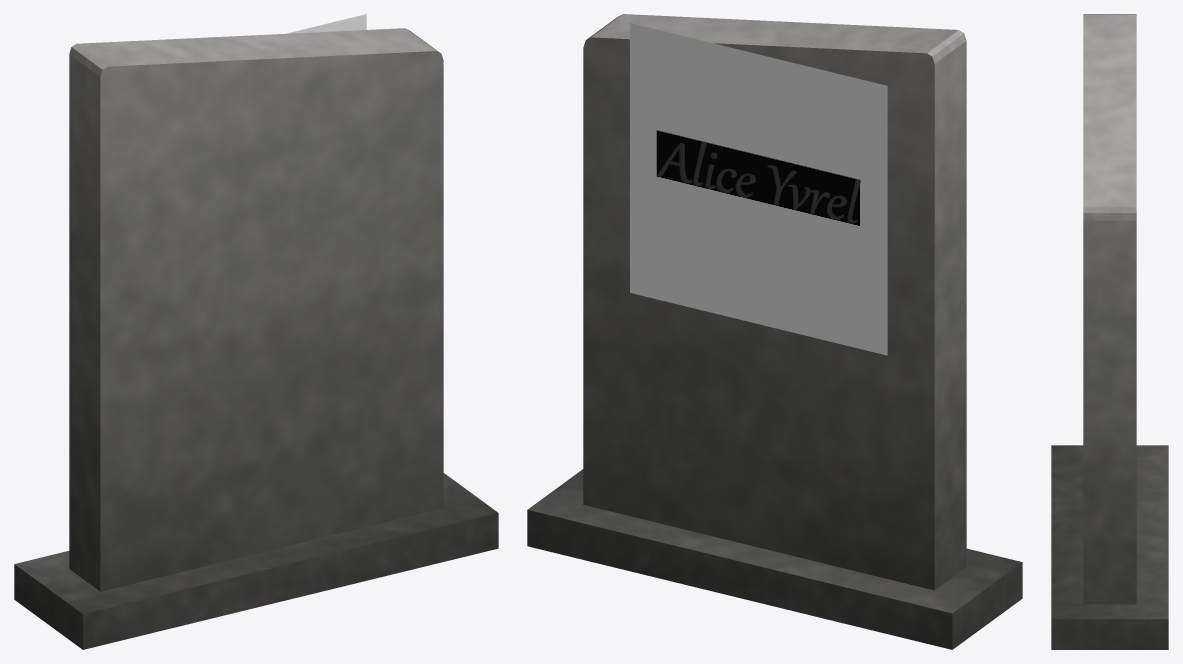
Rendered from tombston_model_04.fbx.
The picture shows the model from 3 angles, left to right: view 1: azimuth 30°, elevation 25°; view 2: azimuth 150°, elevation 25°; view 3: azimuth 270°, elevation 25°; orthographic projection. The views are drawn at different scales.
Visible parts, largest first — view 1: Cube.003, Plano.003; view 2: Cube.003, Plano.003; view 3: Cube.003.
Boxes of the visible parts, x1,y1,x2,y2 form: Cube.003: (14, 28, 498, 649); Plano.003: (287, 14, 366, 33); Cube.003: (527, 14, 1022, 649); Plano.003: (630, 23, 887, 355); Cube.003: (1051, 14, 1168, 649).
Bounding box in the file's own units: 0.7 × 0.9 × 0.2.
